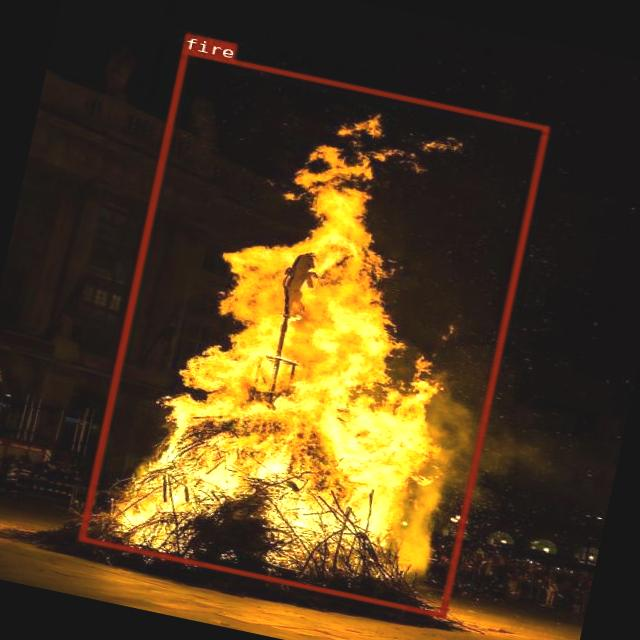fire: (78, 48, 548, 618)
